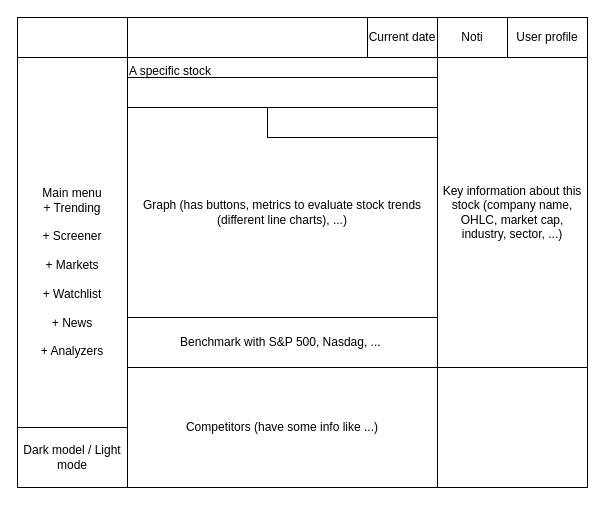
This 605x505 diagram has some shape labels left out. Here are the shapes that lost their labels. From the top down, the centre of each, then its label:
At point 72,37: "App name".
At point 247,37: "Search bar".
At point 282,92: "Name, Abbr. + short description".
At point 352,122: "@day, @hourly, @monthly, ...".
At point 512,427: "News about this stock".
